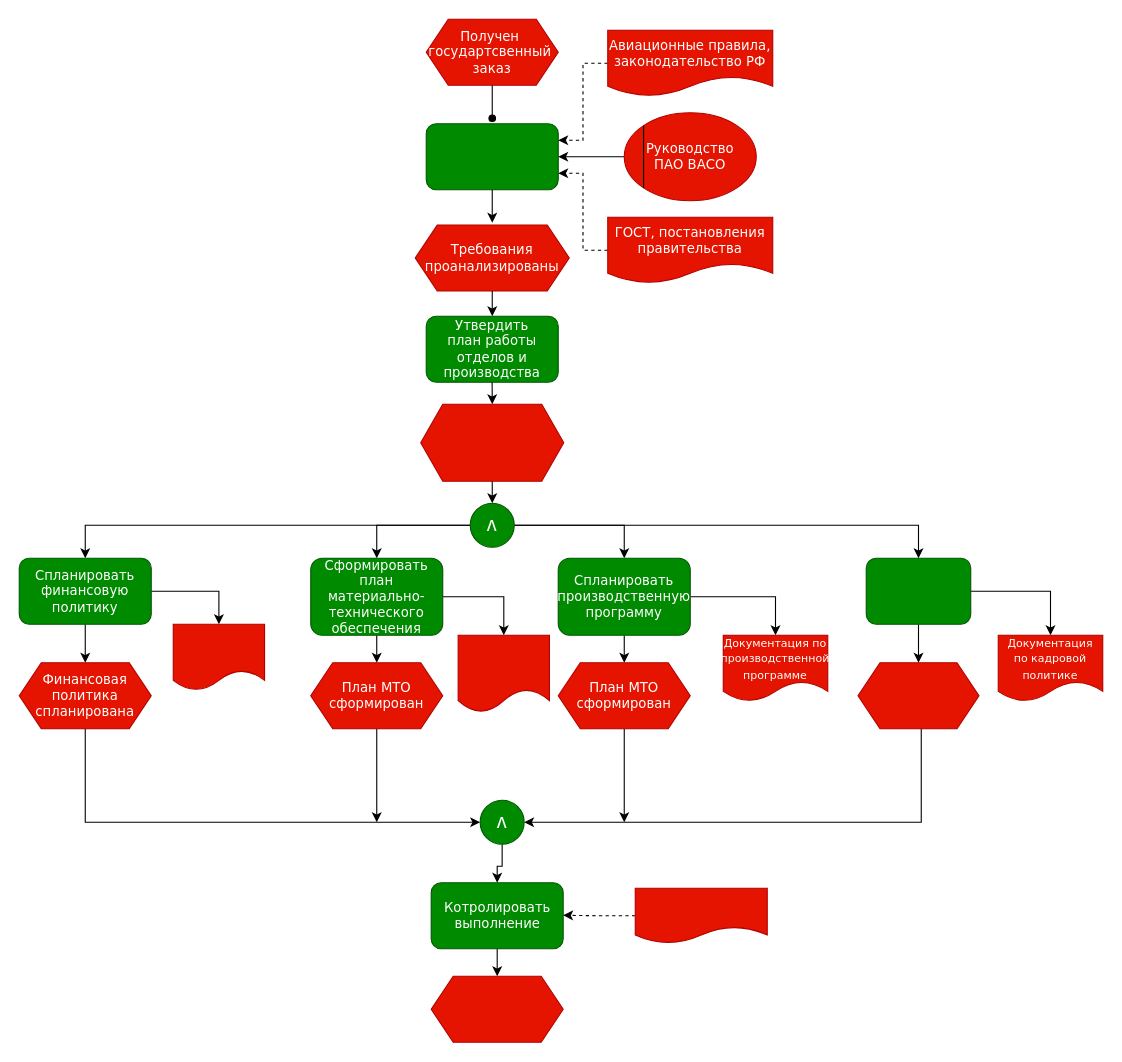
The diagram is 1122 pixels wide and 1062 high, and some of its shapes have lost their labels. Each missing label, with the centre of its shape:
"Выполнение проверено" goes at (x=496, y=1008).
"Документация по финансовой политике" goes at (x=218, y=656).
"Кадровая политика спланирована" goes at (x=918, y=695).
"План материально-технического обеспечения" goes at (x=503, y=673).
"План работы отделов и производства утвержден" goes at (x=492, y=442).
"Проанализировать требования" goes at (x=491, y=156).
"Спланировать кадровую политику" goes at (x=918, y=590).
"Финансовая отчетность" goes at (x=700, y=915).
